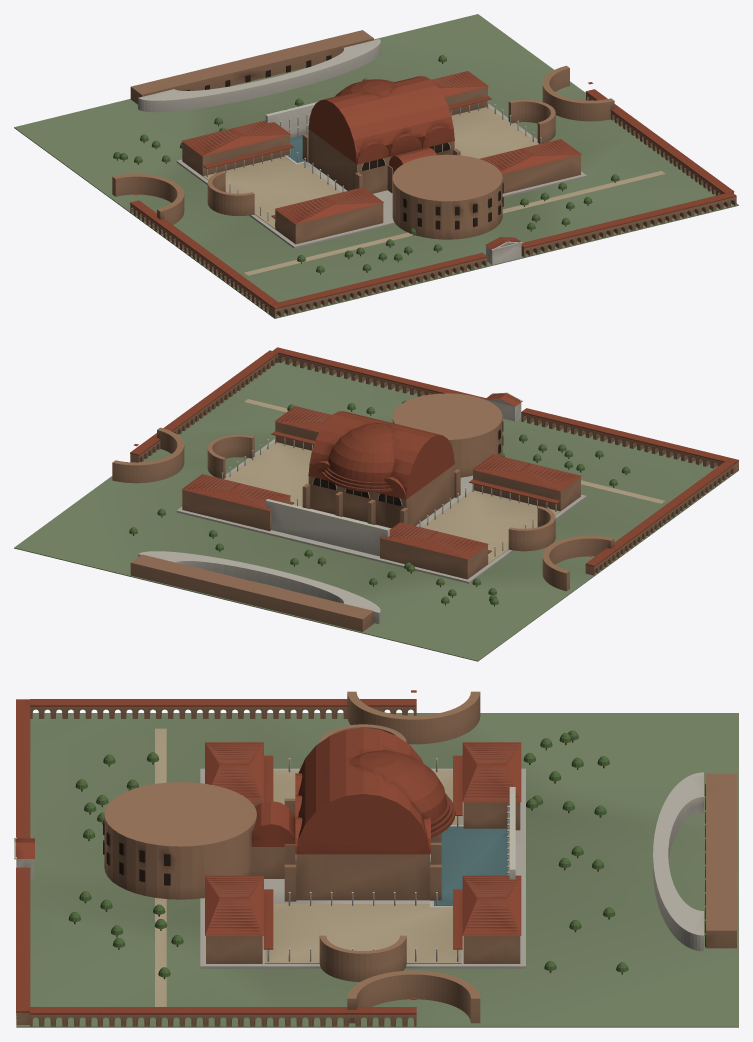
File: baths-of-diocletian.glb
3 renders of one model, top to bottom at view 1: azimuth 30°, elevation 25°; view 2: azimuth 150°, elevation 25°; view 3: azimuth 270°, elevation 25°, orthographic. The views are drawn at different scales.
Parts seen in each view (by area): view 1: p0_precinct, p1_halls, p2_domes; view 2: p0_precinct, p1_halls, p2_domes; view 3: p0_precinct, p1_halls, p2_domes.
Part boxes in pixels (x1,y1,x2,y2): p0_precinct: (14, 14, 738, 318); p1_halls: (113, 39, 619, 274); p2_domes: (133, 71, 593, 250); p0_precinct: (14, 347, 738, 661); p1_halls: (129, 393, 630, 624); p2_domes: (133, 392, 592, 559); p0_precinct: (16, 691, 738, 1027); p1_halls: (68, 724, 703, 981); p2_domes: (14, 690, 521, 999).
Bounding box in the file's own units: 380 × 63.65 × 371.
